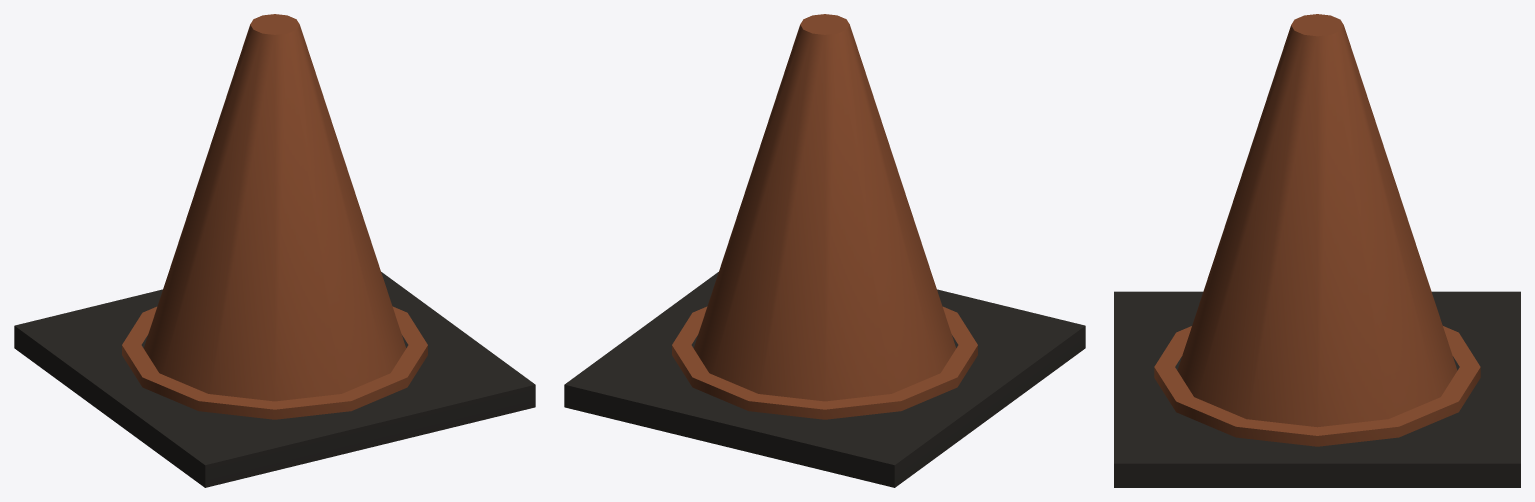
The model's file is sign.cone.worn.glb.
3 renders of one model, left to right at view 1: azimuth 30°, elevation 25°; view 2: azimuth 150°, elevation 25°; view 3: azimuth 270°, elevation 25°, orthographic. The views are drawn at different scales.
Parts seen in each view (by area): view 1: sign_cone_worn; view 2: sign_cone_worn; view 3: sign_cone_worn.
Boxes of the visible parts, <box> form: sign_cone_worn: <box>14,14,535,487</box>; sign_cone_worn: <box>564,14,1085,487</box>; sign_cone_worn: <box>1114,14,1520,487</box>.
Size of what is drawn, in the model's own units: 0.685 by 0.7 by 0.685.
